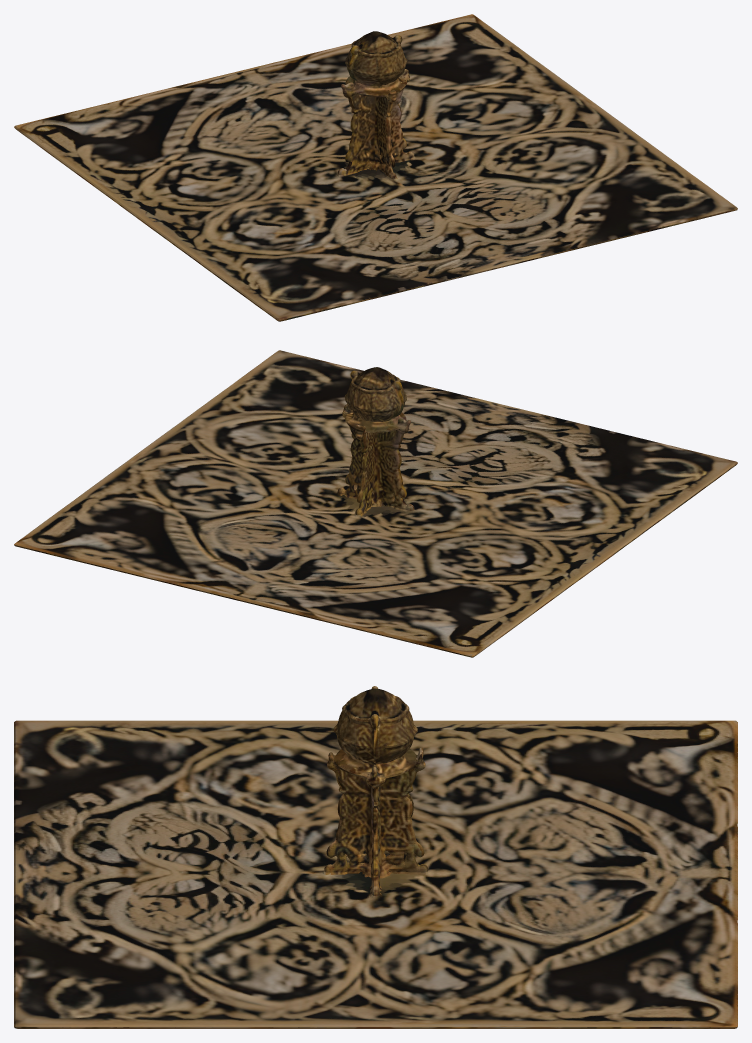
The picture shows the model from 3 angles, top to bottom: view 1: azimuth 30°, elevation 25°; view 2: azimuth 150°, elevation 25°; view 3: azimuth 270°, elevation 25°; orthographic projection. The views are drawn at different scales.
Visible parts, largest first — view 1: textured_mesh; view 2: textured_mesh; view 3: textured_mesh.
Part boxes in pixels (bbox=[...]): textured_mesh: bbox=[14, 14, 737, 321]; textured_mesh: bbox=[14, 350, 737, 657]; textured_mesh: bbox=[14, 686, 737, 1028].
Bounding box in the file's own units: 1.99 × 0.5728 × 1.99.
1 material, 1 textured.
